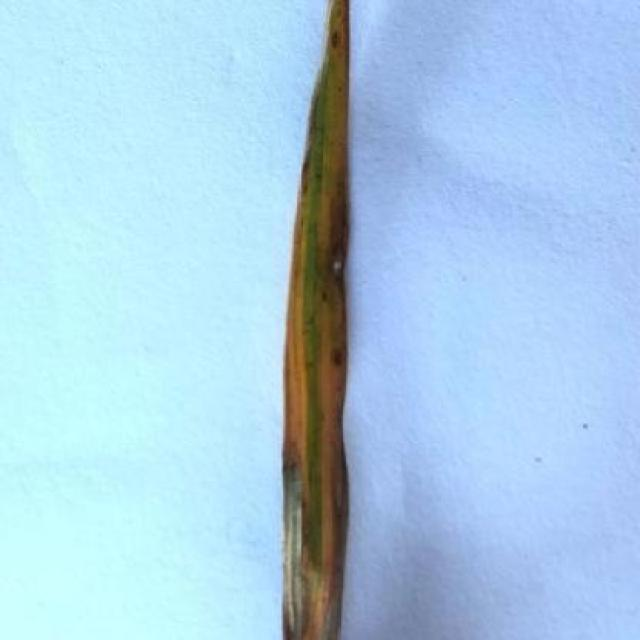Rice False Smut: (283, 7, 349, 623)
